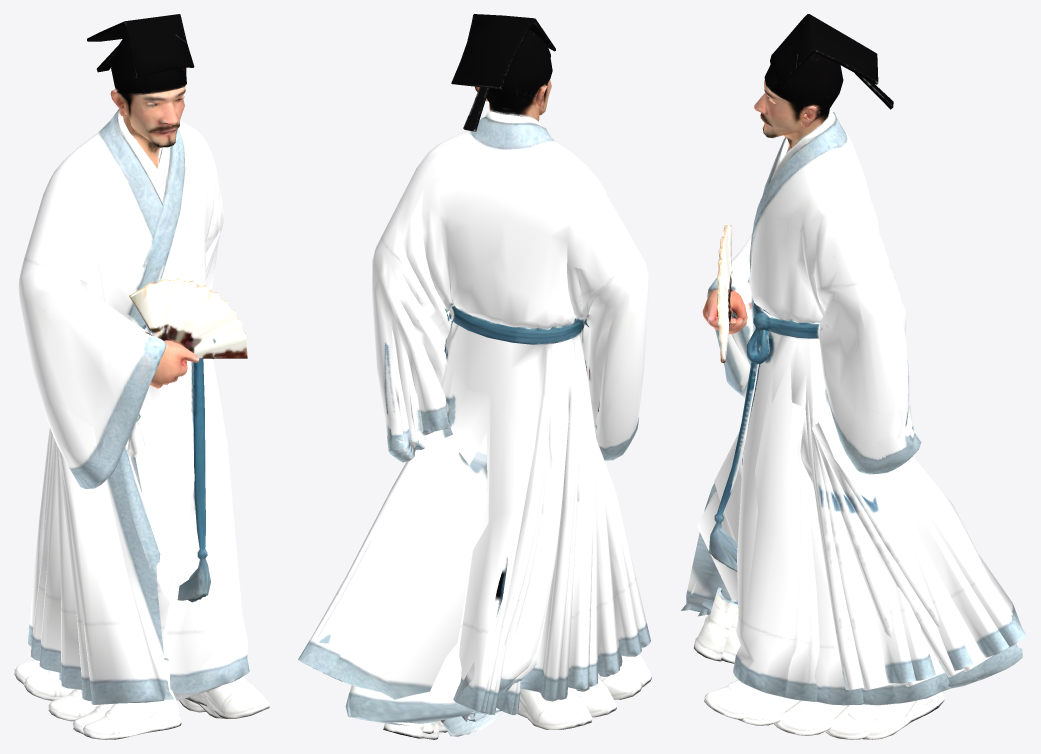
The model's file is p_scholar_walk.glb.
3 renders of one model, left to right at view 1: azimuth 30°, elevation 25°; view 2: azimuth 150°, elevation 25°; view 3: azimuth 270°, elevation 25°, orthographic. The views are drawn at different scales.
Visible parts, largest first — view 1: f0, f2, f6, f5, f1; view 2: f0, f2, f6, f5, f1; view 3: f0, f6, f2, f5, f1.
Boxes of the visible parts, bbox=[...] form: f0: bbox=[18, 14, 247, 721]; f2: bbox=[46, 362, 207, 739]; f6: bbox=[14, 359, 269, 718]; f5: bbox=[24, 365, 224, 718]; f1: bbox=[58, 363, 201, 733]; f0: bbox=[372, 14, 648, 723]; f2: bbox=[298, 357, 651, 739]; f6: bbox=[376, 345, 639, 729]; f5: bbox=[397, 383, 636, 725]; f1: bbox=[359, 368, 641, 733]; f0: bbox=[702, 14, 972, 735]; f6: bbox=[704, 334, 915, 719]; f2: bbox=[681, 361, 1026, 739]; f5: bbox=[714, 356, 935, 725]; f1: bbox=[697, 363, 1009, 739].
Size of the model in its own units: 0.6315 by 1.84 by 0.8446.
Materials: 1 (1 with a texture image).
